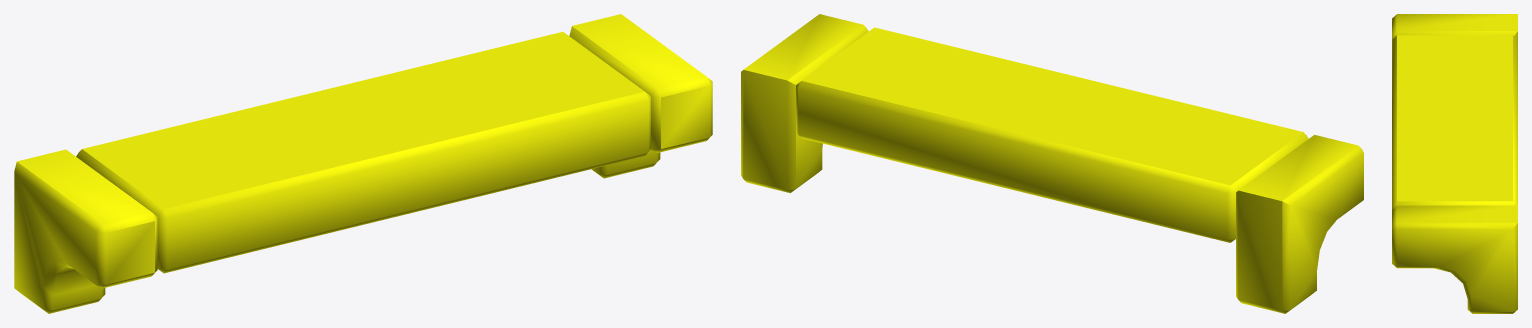
File: kaykit-shelf-a-big.glb
3 renders of one model, left to right at view 1: azimuth 30°, elevation 25°; view 2: azimuth 150°, elevation 25°; view 3: azimuth 270°, elevation 25°, orthographic. The views are drawn at different scales.
Parts seen in each view (by area): view 1: shelf_A_big; view 2: shelf_A_big; view 3: shelf_A_big.
Boxes of the visible parts, x1,y1,x2,y2 form: shelf_A_big: (14,14,712,313); shelf_A_big: (741,14,1363,313); shelf_A_big: (1392,14,1517,313).
Size of the model in its own units: 2 by 0.3999 by 0.5001.
